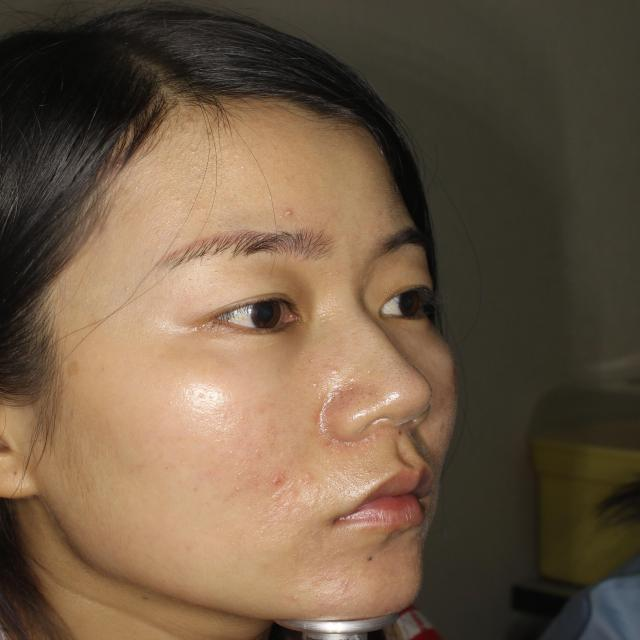comedone: (270, 469, 296, 496)
